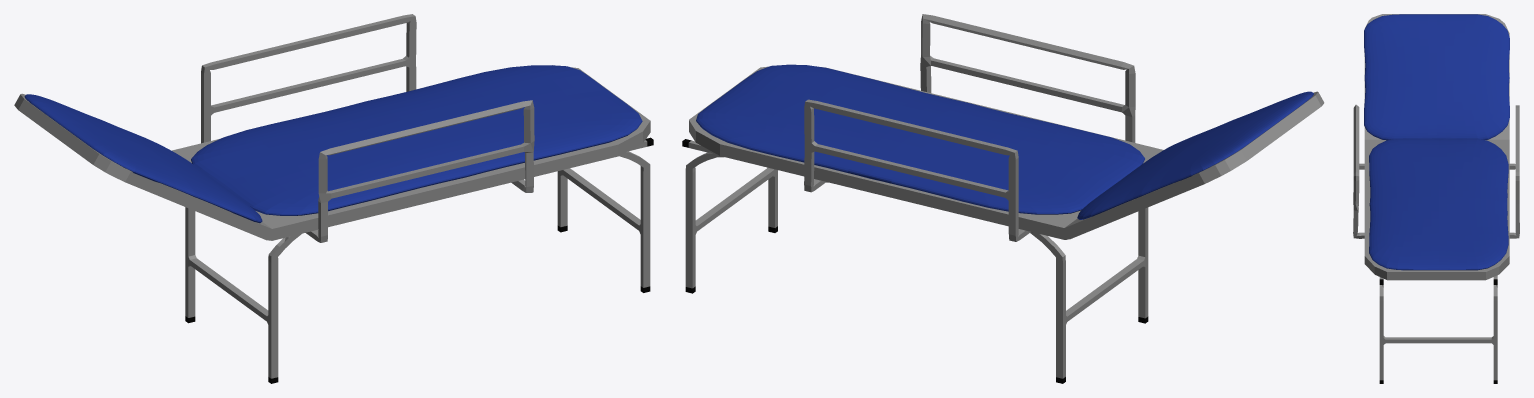
Rendered from maca.fbx.
3 views of the same model, side by side, from view 1: azimuth 30°, elevation 25°; view 2: azimuth 150°, elevation 25°; view 3: azimuth 270°, elevation 25° (orthographic). The views are drawn at different scales.
Visible parts, largest first — view 1: maca_LOD0; view 2: maca_LOD0; view 3: maca_LOD0.
Part boxes in pixels (left/top/right/bottom): maca_LOD0: left=14, top=14, right=653, bottom=383; maca_LOD0: left=682, top=14, right=1324, bottom=383; maca_LOD0: left=1353, top=14, right=1519, bottom=383.
Size of what is drawn, in the model's own units: 858 by 396 by 321.
